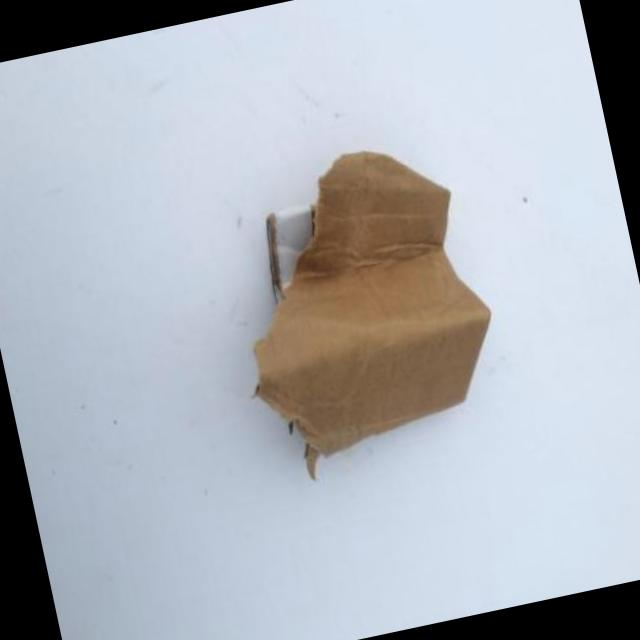cardboard paper: (254, 149, 489, 470)
